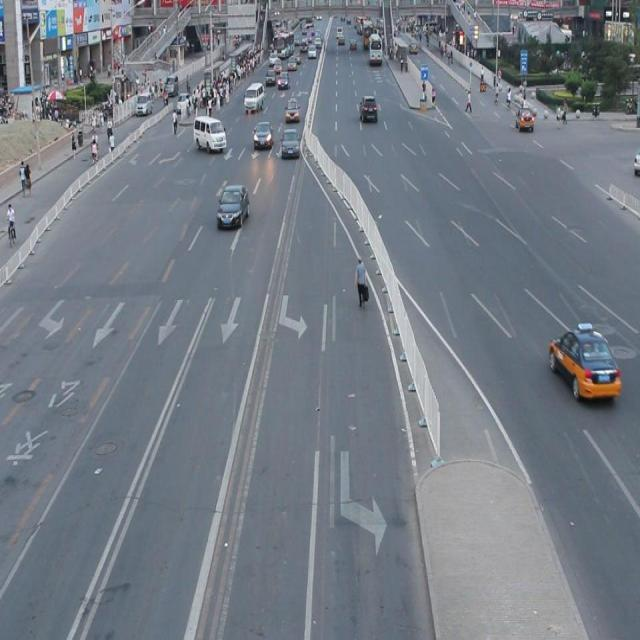car: (548, 324, 619, 400), (215, 182, 249, 232)
